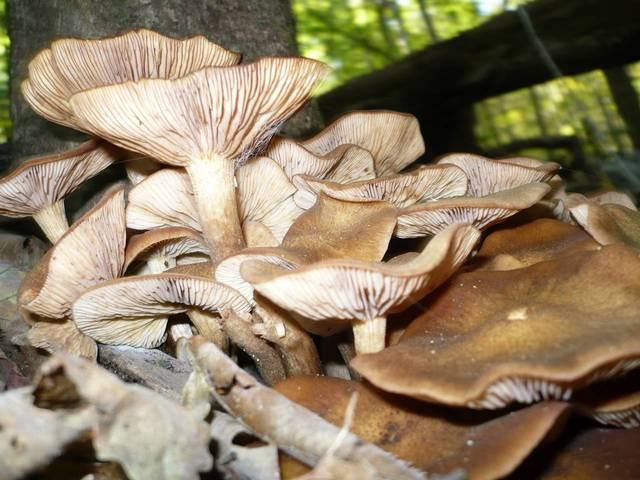Edible Mushroom: (1, 26, 638, 477)
